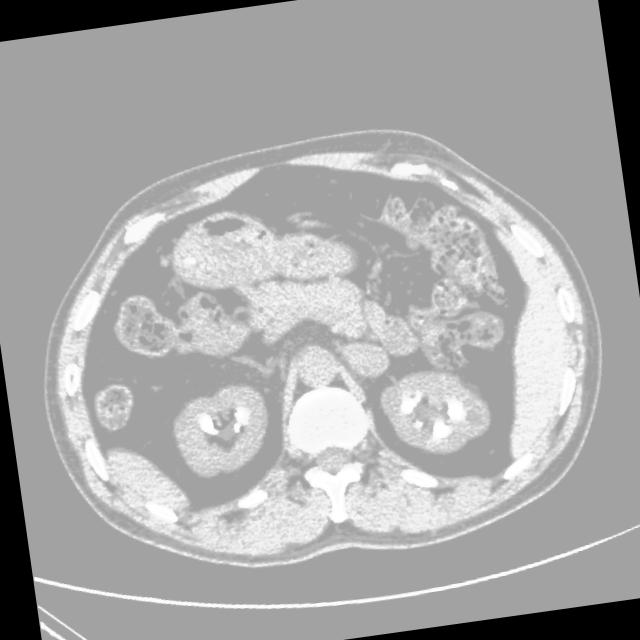STONE: (134, 212, 505, 485)
